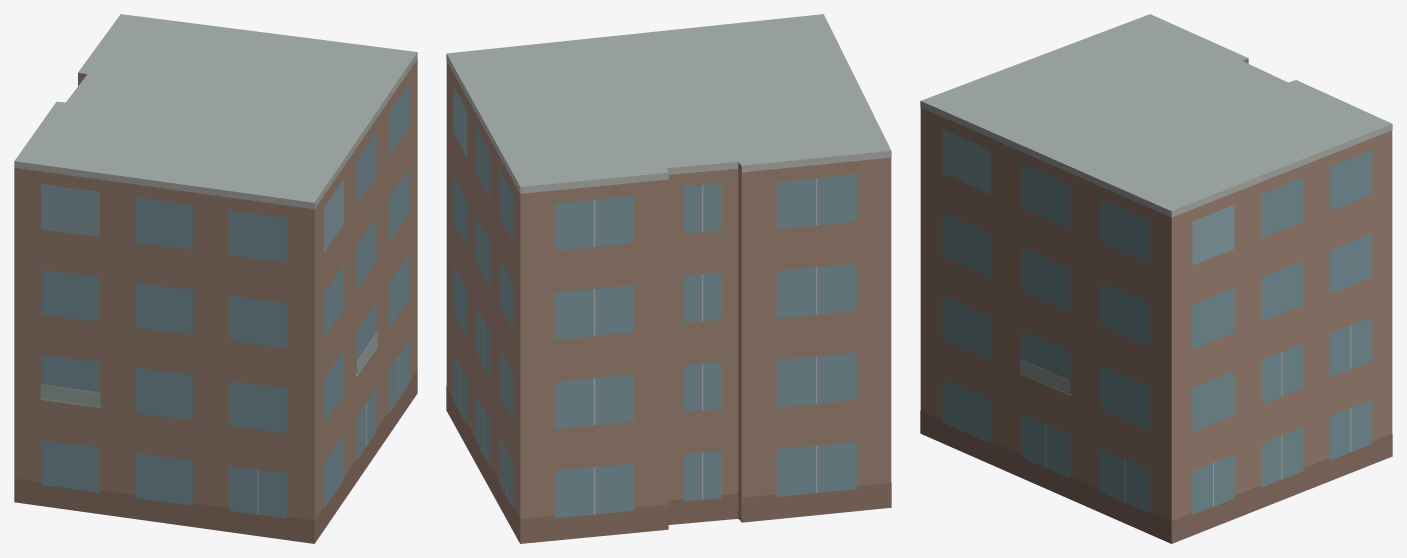
File: survey-upis-32578248.glb
The picture shows the model from 3 angles, left to right: view 1: azimuth 30°, elevation 25°; view 2: azimuth 150°, elevation 25°; view 3: azimuth 270°, elevation 25°; orthographic projection. The views are drawn at different scales.
Visible parts, largest first — view 1: survey-upis-32578248.tmp; view 2: survey-upis-32578248.tmp; view 3: survey-upis-32578248.tmp.
Boxes of the visible parts, <box> form: survey-upis-32578248.tmp: <box>14,14,417,543</box>; survey-upis-32578248.tmp: <box>446,14,891,543</box>; survey-upis-32578248.tmp: <box>920,14,1392,543</box>.
Bounding box in the file's own units: 16.28 × 12.8 × 16.46.
